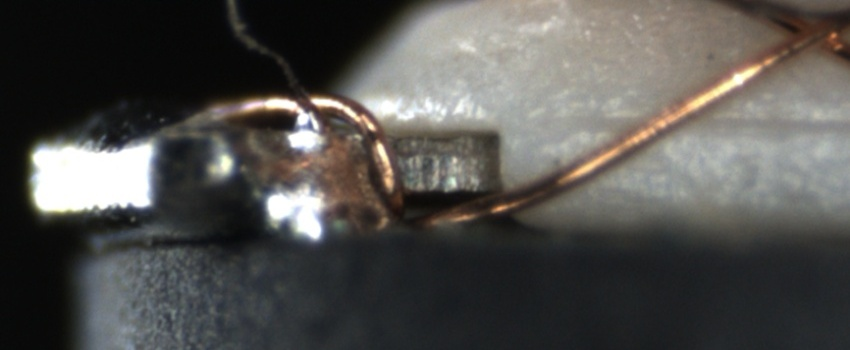CL: (760, 4, 843, 64)
DL: (559, 90, 850, 148)
TE: (198, 88, 419, 225)
